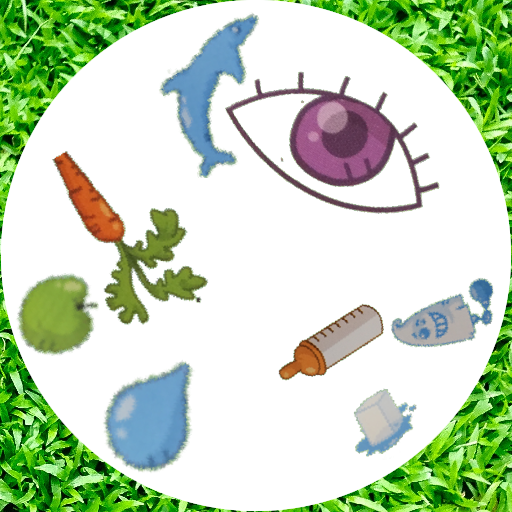apple_icon: (10, 267, 99, 356)
bottle_icon: (270, 284, 391, 405)
carrot_icon: (8, 141, 216, 349)
cube_icon: (338, 378, 420, 460)
dolphin_icon: (129, 6, 301, 178)
eye_icon: (220, 34, 444, 258)
ghost_icon: (387, 260, 502, 375)
raindrop_icon: (96, 355, 216, 475)
